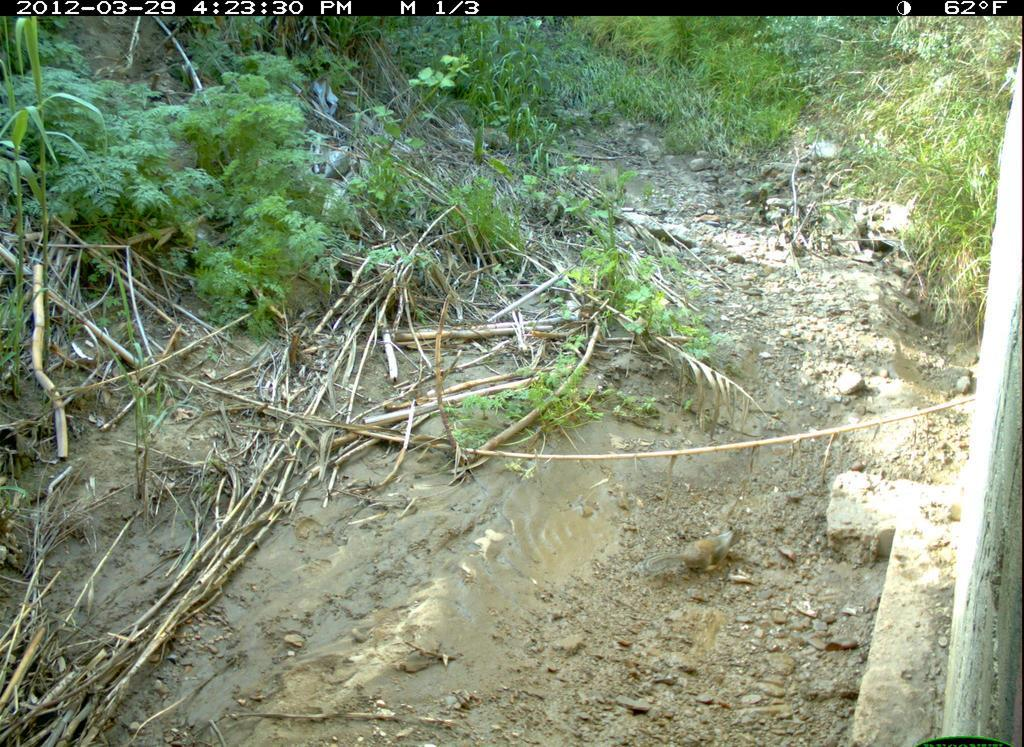squirrel: (638, 516, 756, 584)
